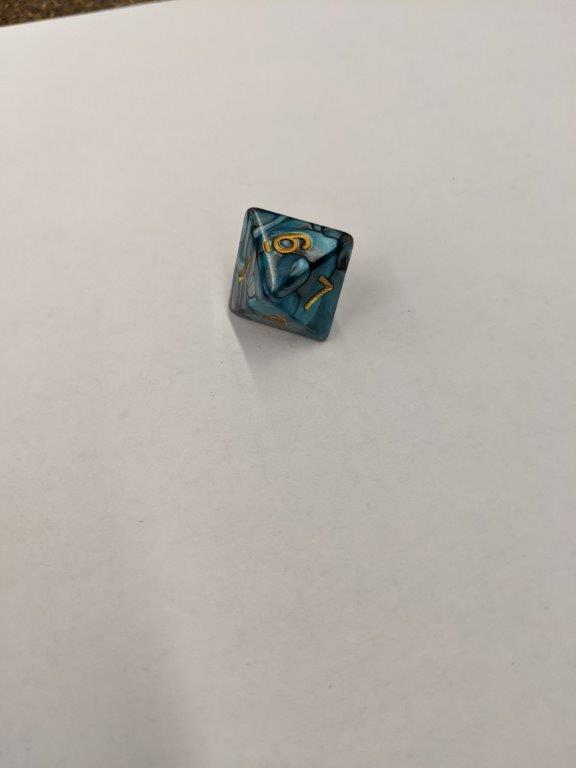d8-6: (223, 205, 356, 345)
